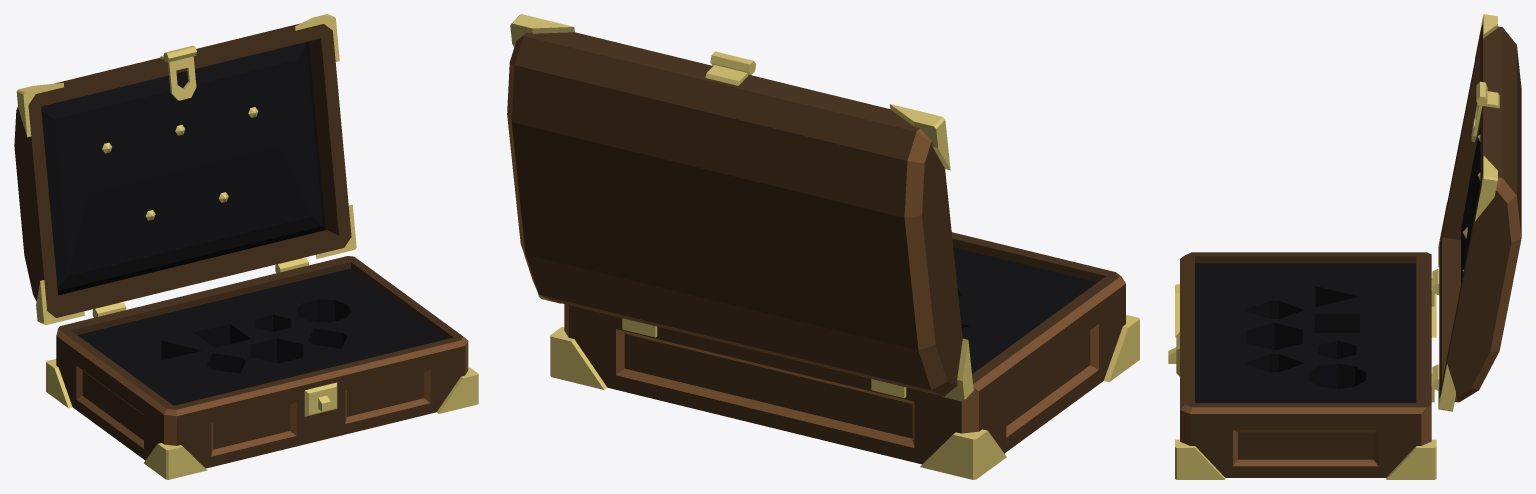
Rendered from seven-pocket-dice-chest-1e8cb4.glb.
The picture shows the model from 3 angles, left to right: view 1: azimuth 30°, elevation 25°; view 2: azimuth 150°, elevation 25°; view 3: azimuth 270°, elevation 25°; orthographic projection. The views are drawn at different scales.
Parts seen in each view (by area): view 1: lid-shell, chest, chest-hardware, lid-hardware; view 2: lid-shell, chest, chest-hardware, lid-hardware; view 3: chest, lid-shell, chest-hardware, lid-hardware.
Boxes of the visible parts, x1,y1,x2,y2 form: lid-shell: (14, 23, 351, 317); chest: (56, 256, 468, 468); chest-hardware: (46, 257, 478, 479); lid-hardware: (16, 14, 356, 324); lid-shell: (507, 32, 962, 396); chest: (564, 232, 1125, 464); chest-hardware: (550, 315, 1139, 479); lid-hardware: (510, 14, 973, 401); chest: (1180, 252, 1431, 477); lid-shell: (1439, 24, 1521, 402); chest-hardware: (1168, 268, 1439, 479); lid-hardware: (1438, 14, 1499, 411).
Size of the model in its own units: 0.154 by 0.1356 by 0.1404.
